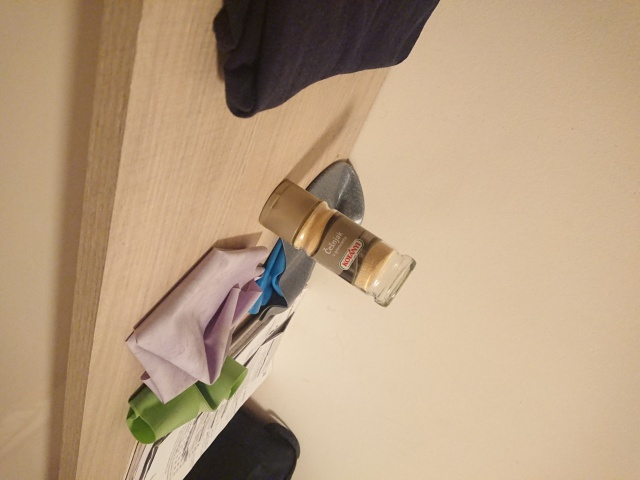Kotanyi Garlic Granules 70g: (256, 176, 419, 310)
